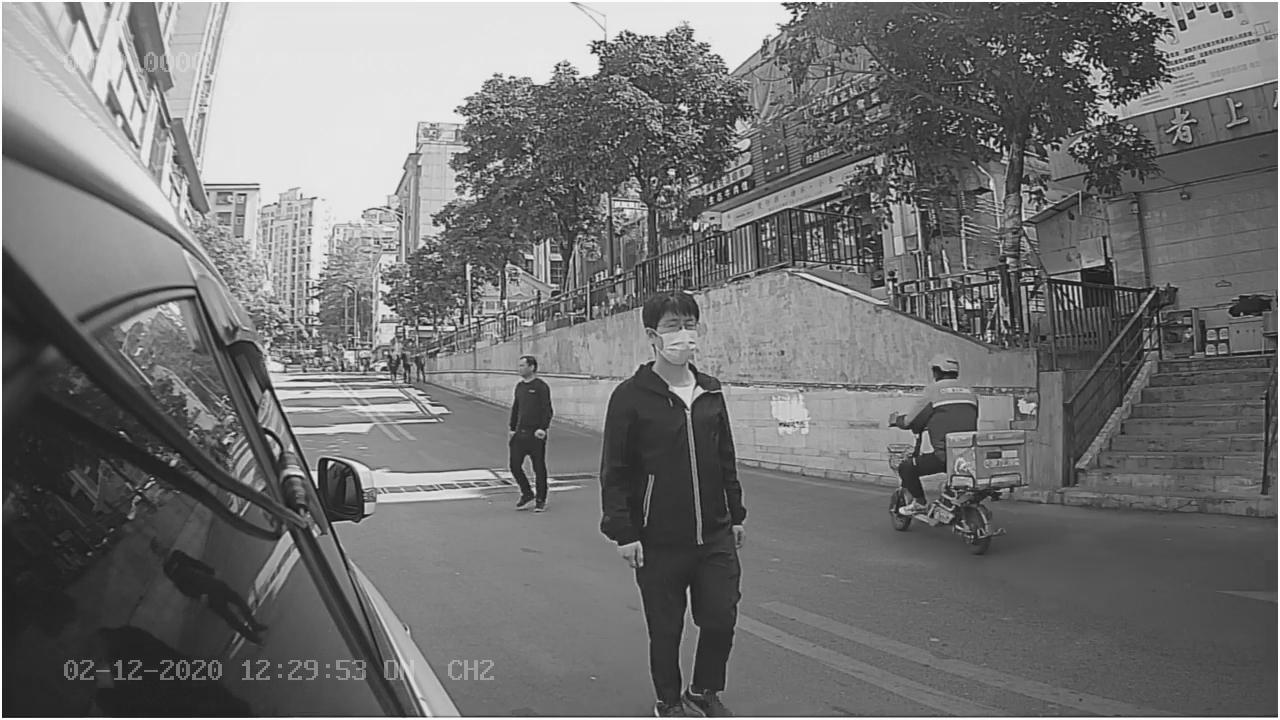person: (599, 271, 775, 573), (486, 348, 571, 522)
